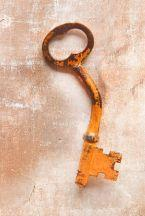metal: (37, 21, 122, 189)
